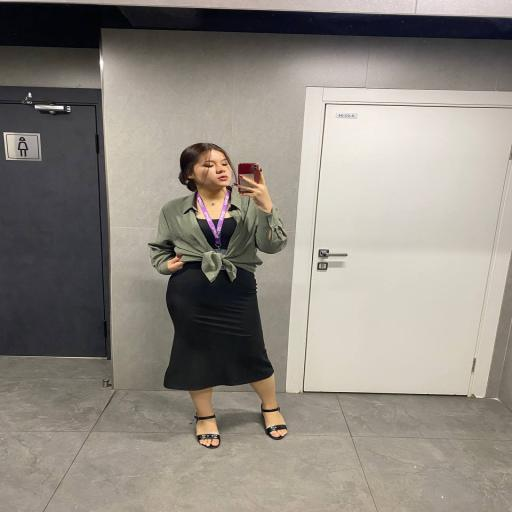corridor: (303, 103, 511, 394), (0, 102, 108, 357)
laptop: (144, 137, 299, 453)
people: (237, 162, 259, 187)
